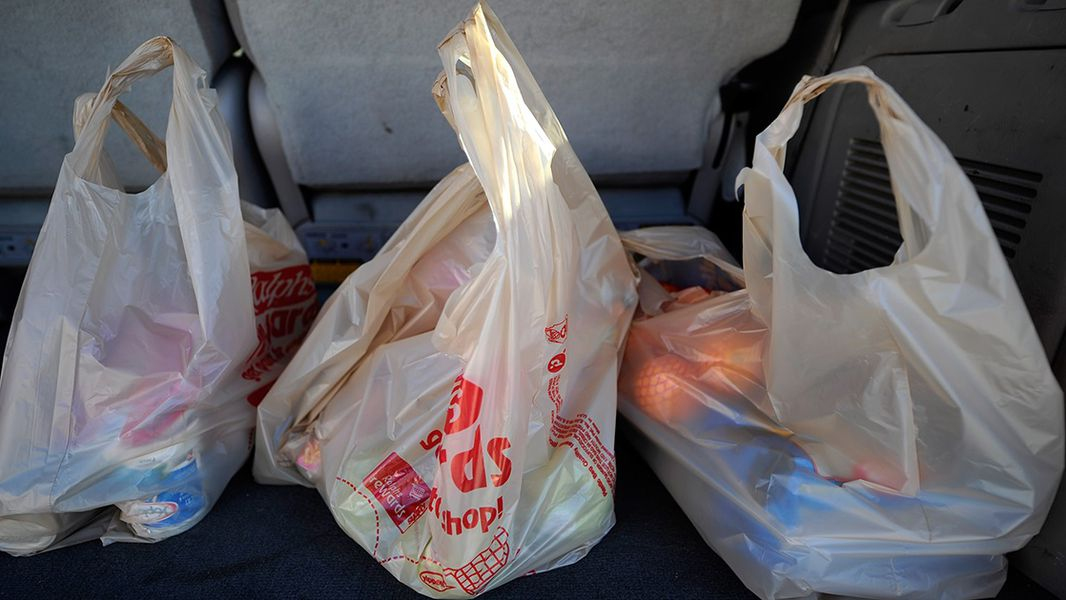plastic_bagwdw: (587, 9, 1065, 599), (249, 1, 658, 599), (1, 20, 281, 587)
